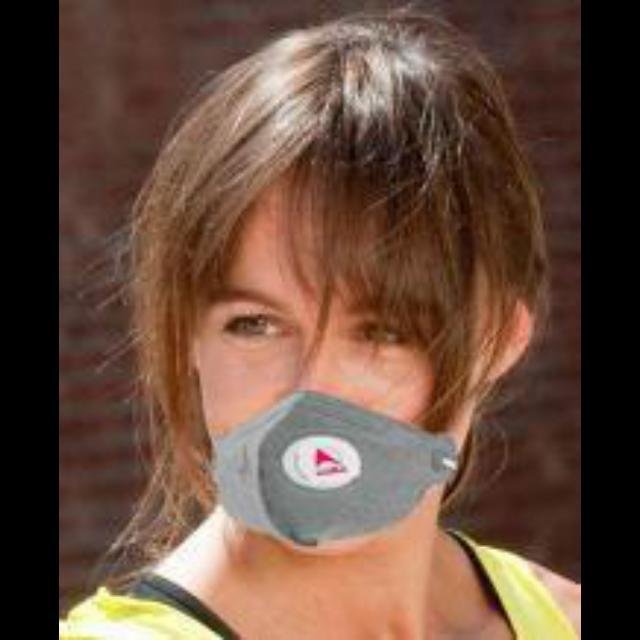suspicion: (140, 94, 538, 546)
